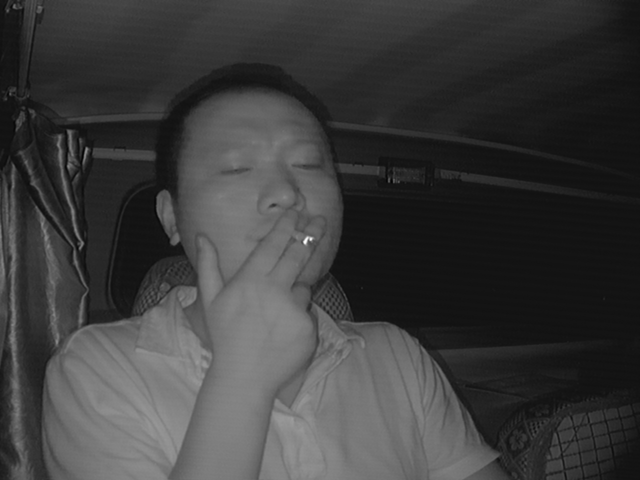hand: (231, 221, 324, 349)
